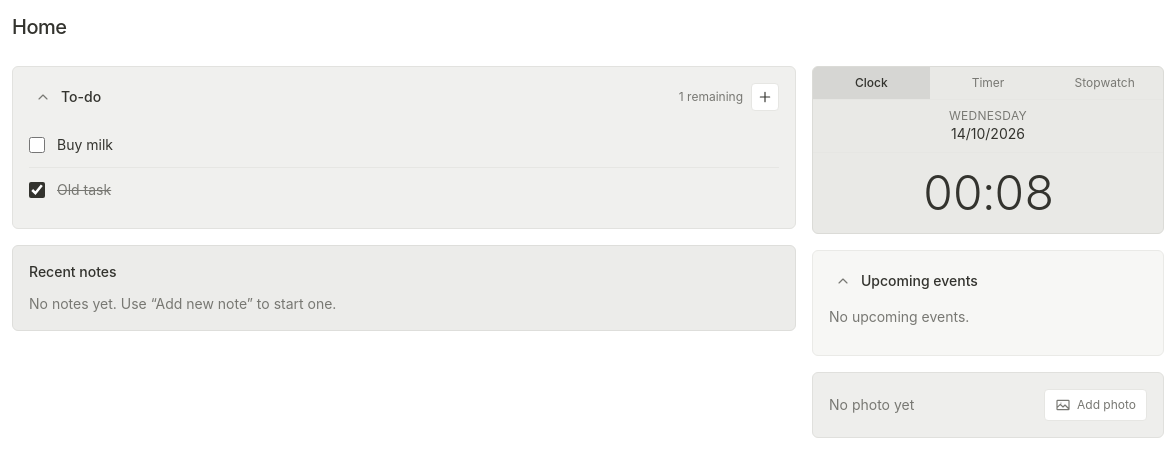
To-do widget on Home › checks a to-do off and saves it
This screenshot has width=1176, height=455.
Step 1. Click the checkbox named "Mark \"Buy milk\" as done" → click(37, 145), box [29,137,45,153]
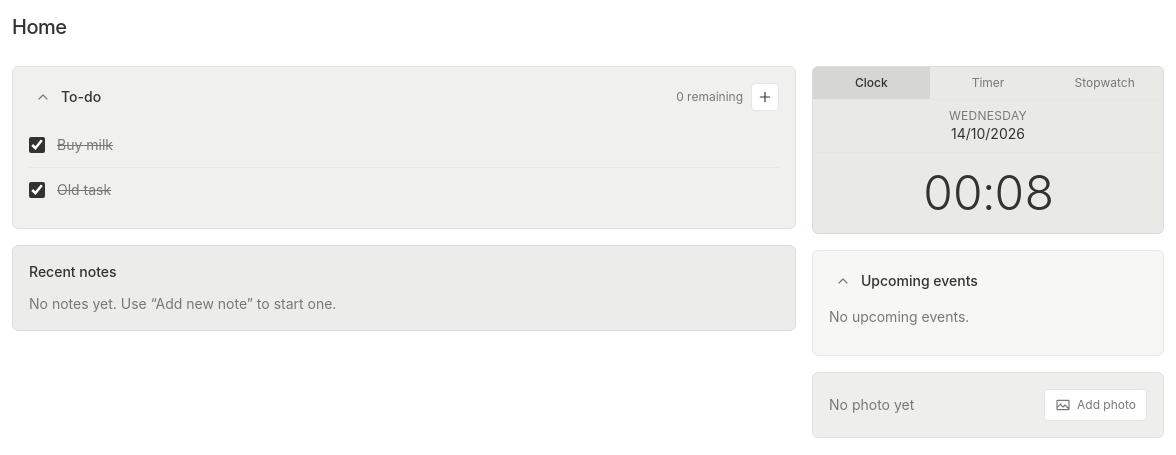
expect the checkbox named "Mark \"Buy milk\" as done" is checked: met, box [29,137,45,153]
expect the text with test id "todo-remaining" reads "0 remaining": met, box [676,89,743,105]
